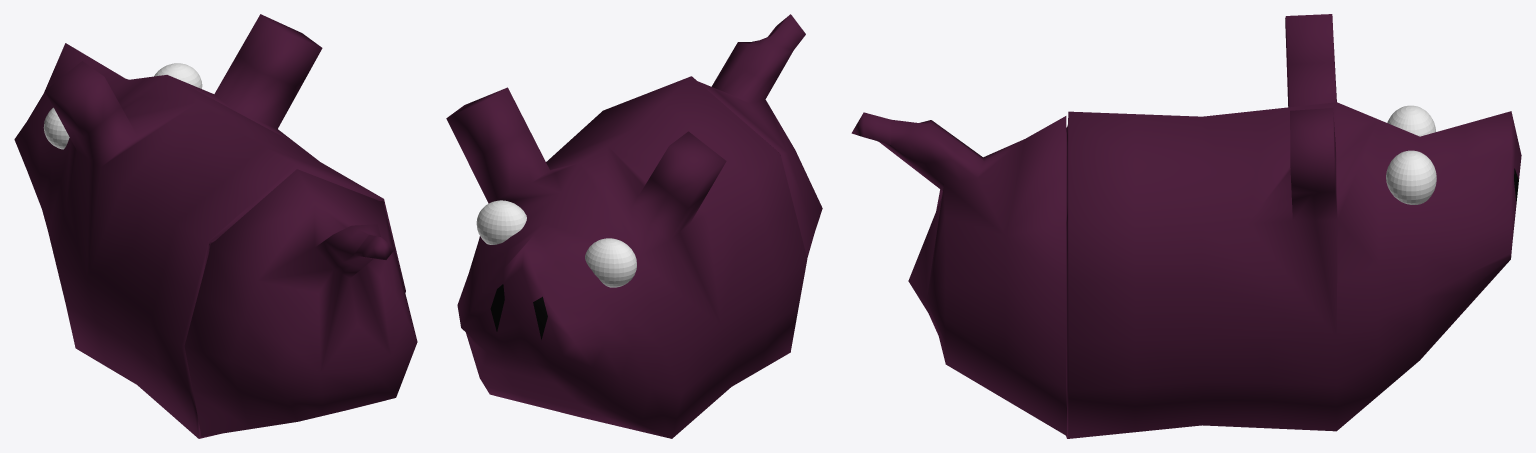
File: pig.fbx
The picture shows the model from 3 angles, left to right: view 1: azimuth 30°, elevation 25°; view 2: azimuth 150°, elevation 25°; view 3: azimuth 270°, elevation 25°; orthographic projection. The views are drawn at different scales.
Visible parts, largest first — view 1: Cube, 球.002, 球; view 2: Cube, 球.002, 球; view 3: Cube, 球, 球.002.
Boxes of the visible parts, bbox=[...] form: Cube: bbox=[14, 14, 417, 438]; 球.002: bbox=[43, 107, 69, 149]; 球: bbox=[154, 63, 202, 88]; Cube: bbox=[446, 14, 822, 438]; 球.002: bbox=[585, 238, 636, 287]; 球: bbox=[476, 200, 526, 244]; Cube: bbox=[851, 14, 1521, 438]; 球: bbox=[1386, 150, 1436, 204]; 球.002: bbox=[1387, 105, 1435, 136].
Size of the model in its own units: 301 by 328 by 604.
